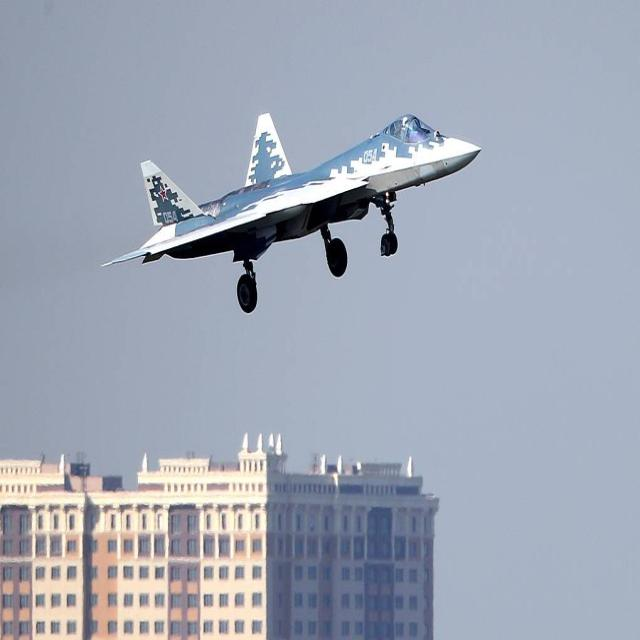MIL_Plane: (100, 112, 482, 314)
